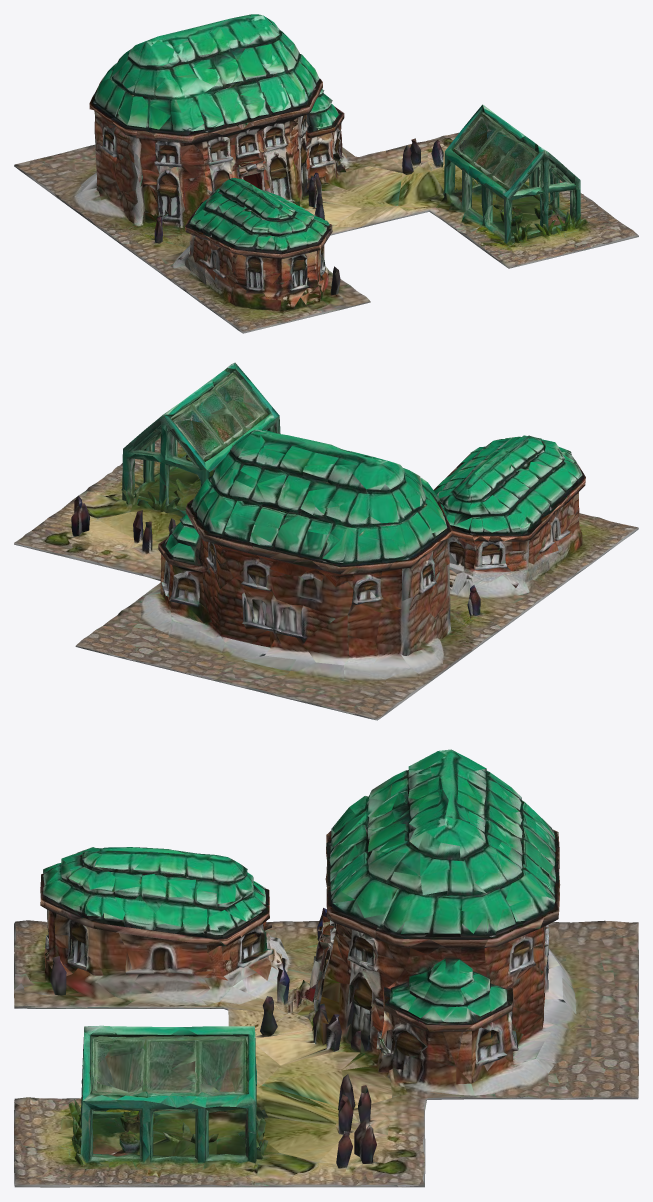
Rendered from laboratorio.glb.
3 views of the same model, one above another, from view 1: azimuth 30°, elevation 25°; view 2: azimuth 150°, elevation 25°; view 3: azimuth 270°, elevation 25° (orthographic). The views are drawn at different scales.
Size of the model in its own units: 3 by 1.17 by 3.
1 material, 1 textured.
